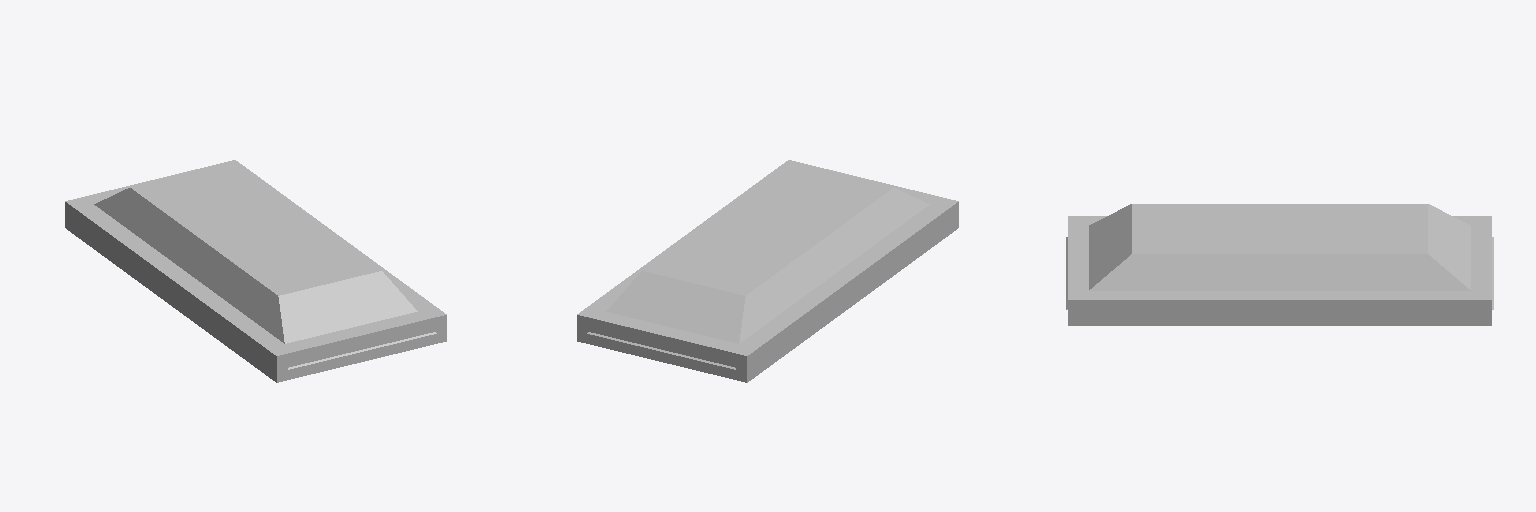
The model's file is startbutton.obj.
3 renders of one model, left to right at view 1: azimuth 30°, elevation 25°; view 2: azimuth 150°, elevation 25°; view 3: azimuth 270°, elevation 25°, orthographic.
Visible parts, largest first — view 1: Cube, Cube.001, Text; view 2: Cube, Cube.001, Text; view 3: Cube, Cube.001, Text.
Part boxes in pixels (left/top/right/bottom): Cube: left=94, top=162, right=436, bottom=369; Cube.001: left=65, top=160, right=446, bottom=382; Text: left=207, top=192, right=333, bottom=271; Cube: left=587, top=162, right=929, bottom=369; Cube.001: left=577, top=160, right=958, bottom=382; Text: left=702, top=182, right=845, bottom=257; Cube: left=1066, top=204, right=1493, bottom=309; Cube.001: left=1068, top=216, right=1491, bottom=325; Text: left=1172, top=212, right=1359, bottom=240.
Bounding box in the file's own units: 2 × 0.6451 × 4.34.